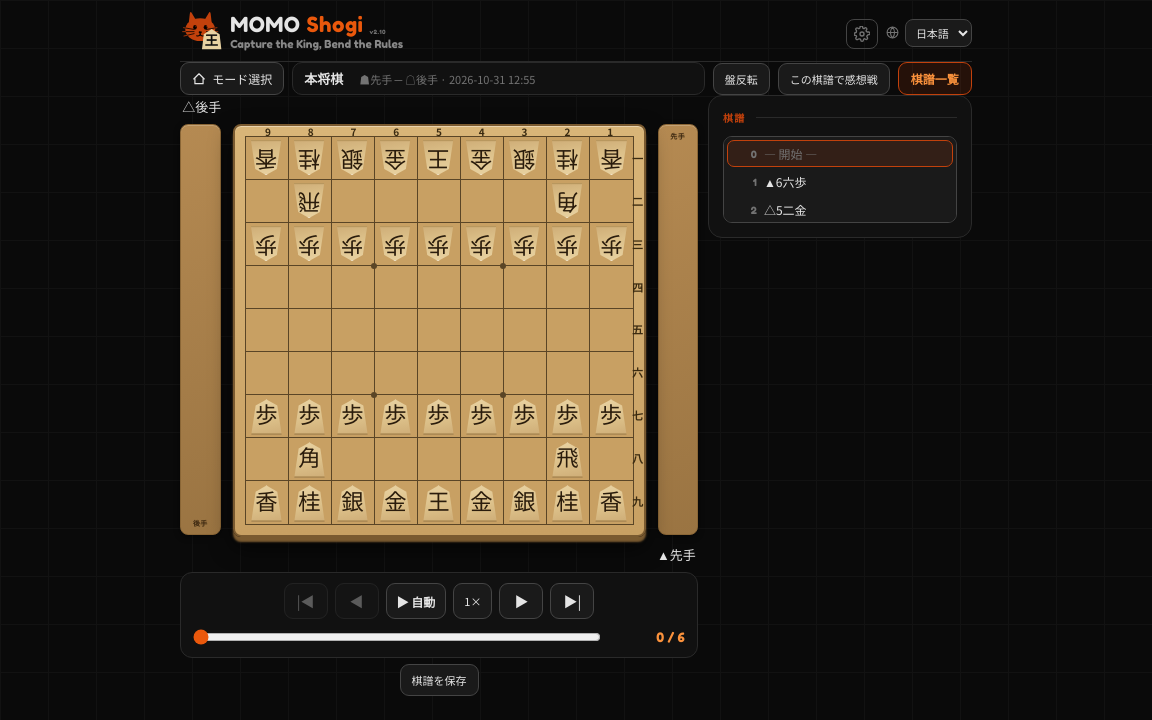
Test: S08 フォルダを指定してあるとき › 上の帯がフォルダ名と件数になり、「棋譜を読み込む」は出ない
The image size is (1152, 720).
Click the button "棋譜一覧": [935, 79] box [898,62,972,95]
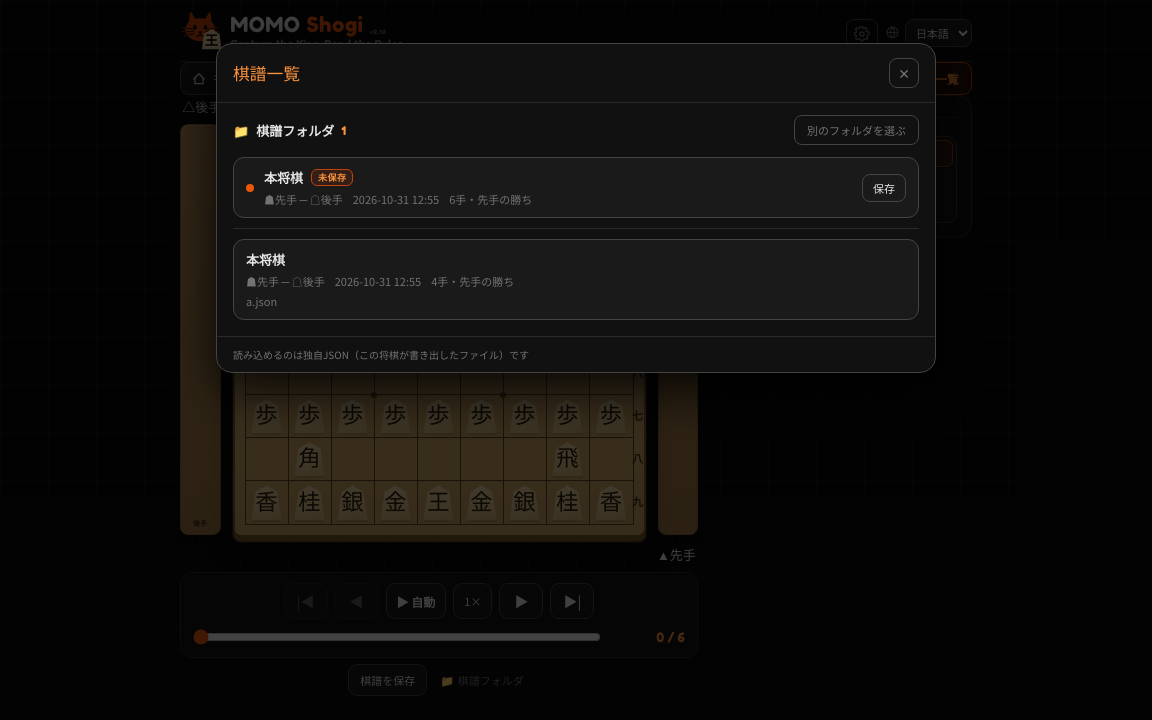
Expected: the button "別のフォルダを選ぶ" is shown, [794,115,919,145]
Expected: the 2nd text "棋譜フォルダ" is shown, [458,672,524,688]
